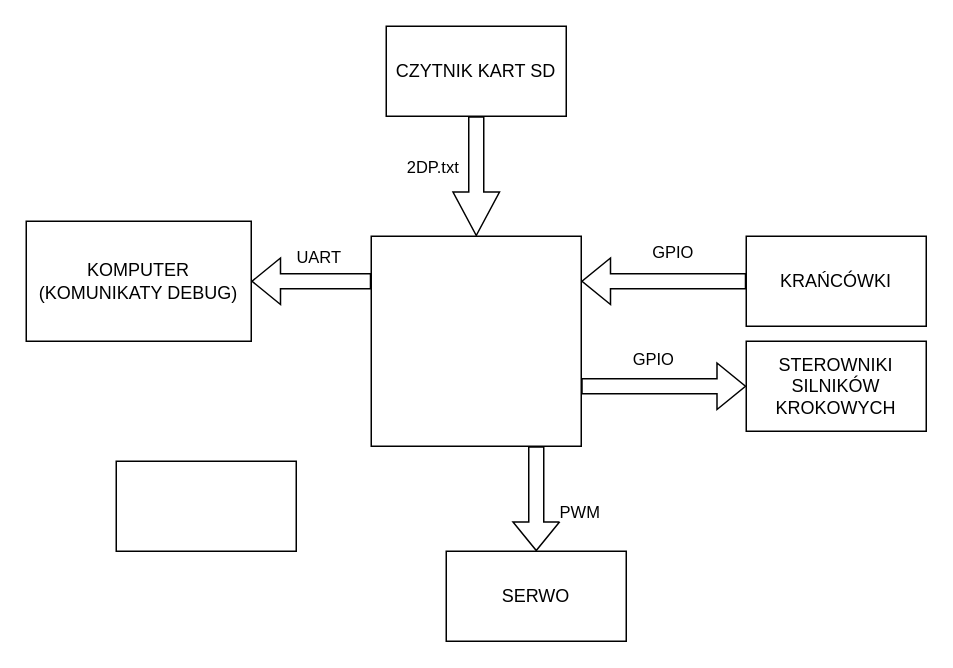
Image size: 953x668. Some labels were removed from this diagram. Here are the shapes that lost their labels. From the top down, the centre of each, then its label:
At point 475,340: "MIKROPROCESOR (ARDUINO UNO)".
At point 205,505: "ZASILACZ".
